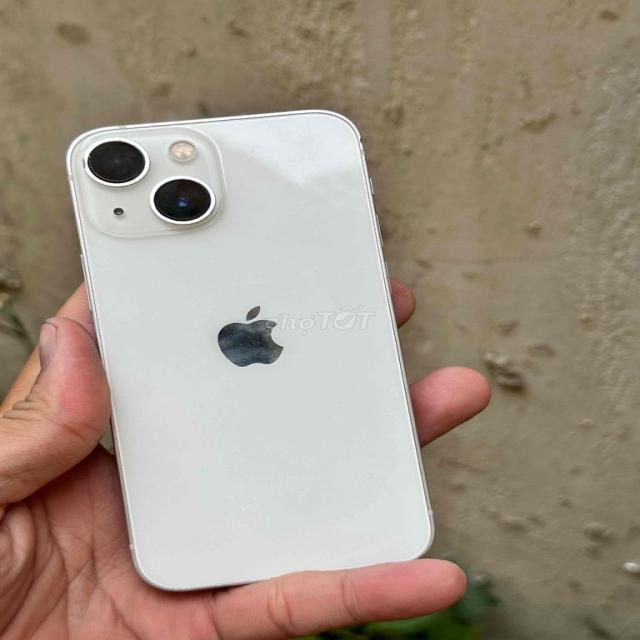gen_12_13: (65, 109, 440, 593)
